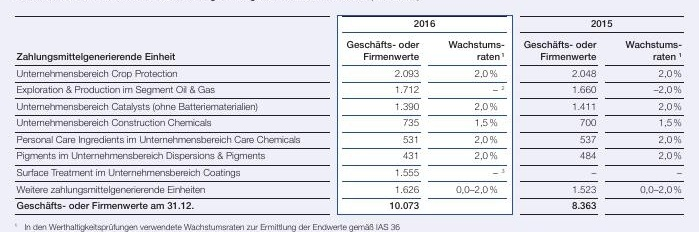table: (0, 0, 699, 232)
